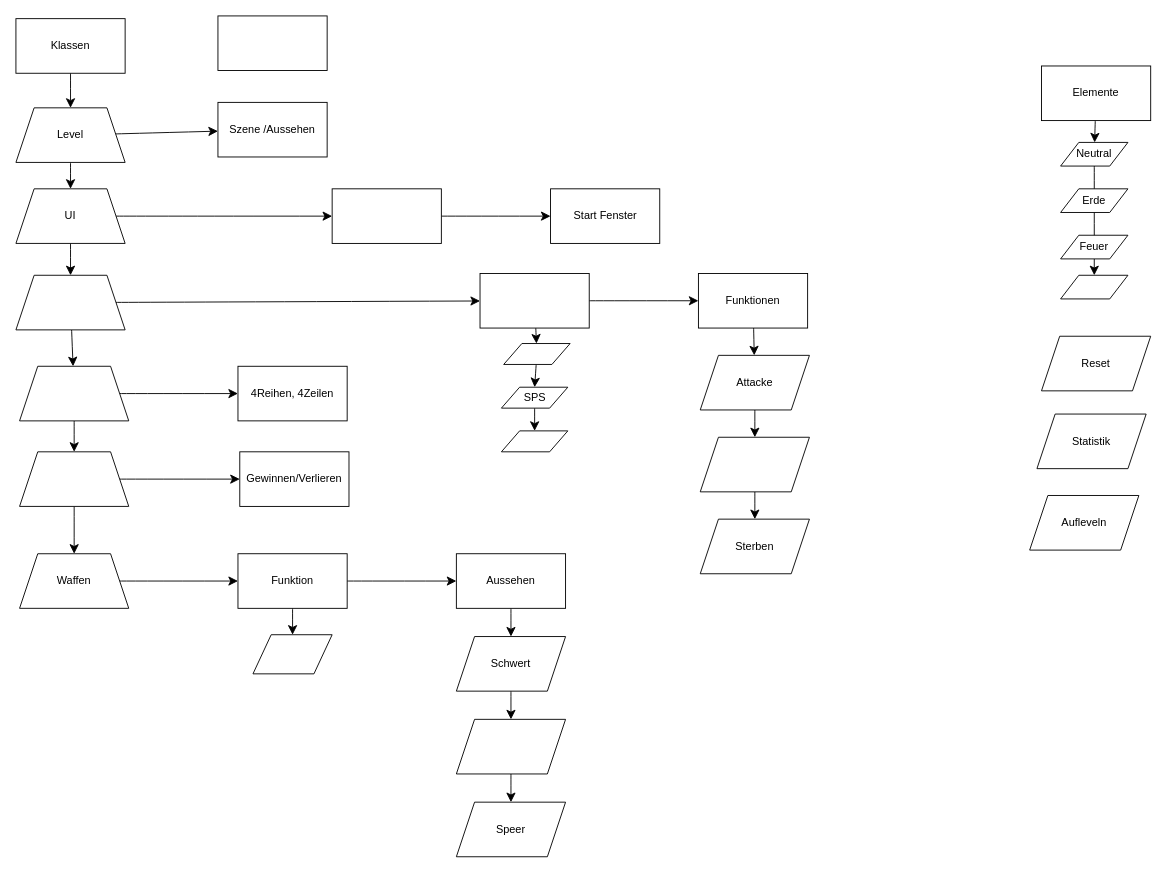
This 1167x873 diagram has some shape labels left out. The shapes that lost their labels are listed below. From the top down, each one's centre as x and y in pixels, then its label:
At point 272,43: "Theme: Mittelalter (Vikinger)".
At point 386,215: "Maskenauswahl".
At point 70,302: "Masken".
At point 534,300: "Attribute".
At point 1094,286: "Wasser".
At point 536,353: "LP".
At point 74,393: "Platzierung".
At point 534,441: "Geschw".
At point 74,478: "GameController".
At point 754,464: "Hit".
At point 292,654: "Ausführen".
At point 510,746: "Wurf-Axt".
